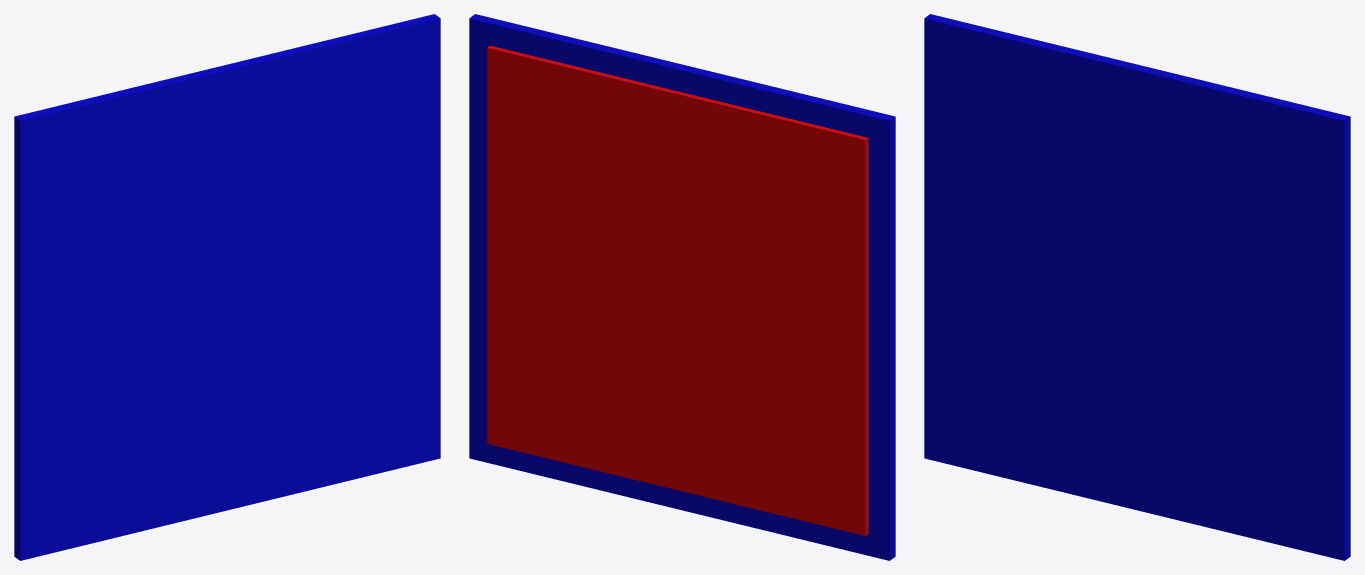
File: Floor.fbx
3 renders of one model, left to right at view 1: azimuth 30°, elevation 25°; view 2: azimuth 150°, elevation 25°; view 3: azimuth 330°, elevation 25°, orthographic.
Parts seen in each view (by area): view 1: Floor; view 2: Floor; view 3: Floor.
Boxes of the visible parts, x1,y1,x2,y2 form: Floor: [14, 14, 440, 560]; Floor: [469, 14, 895, 560]; Floor: [924, 14, 1350, 560].
Bounding box in the file's own units: 80000 × 80000 × 3000.
